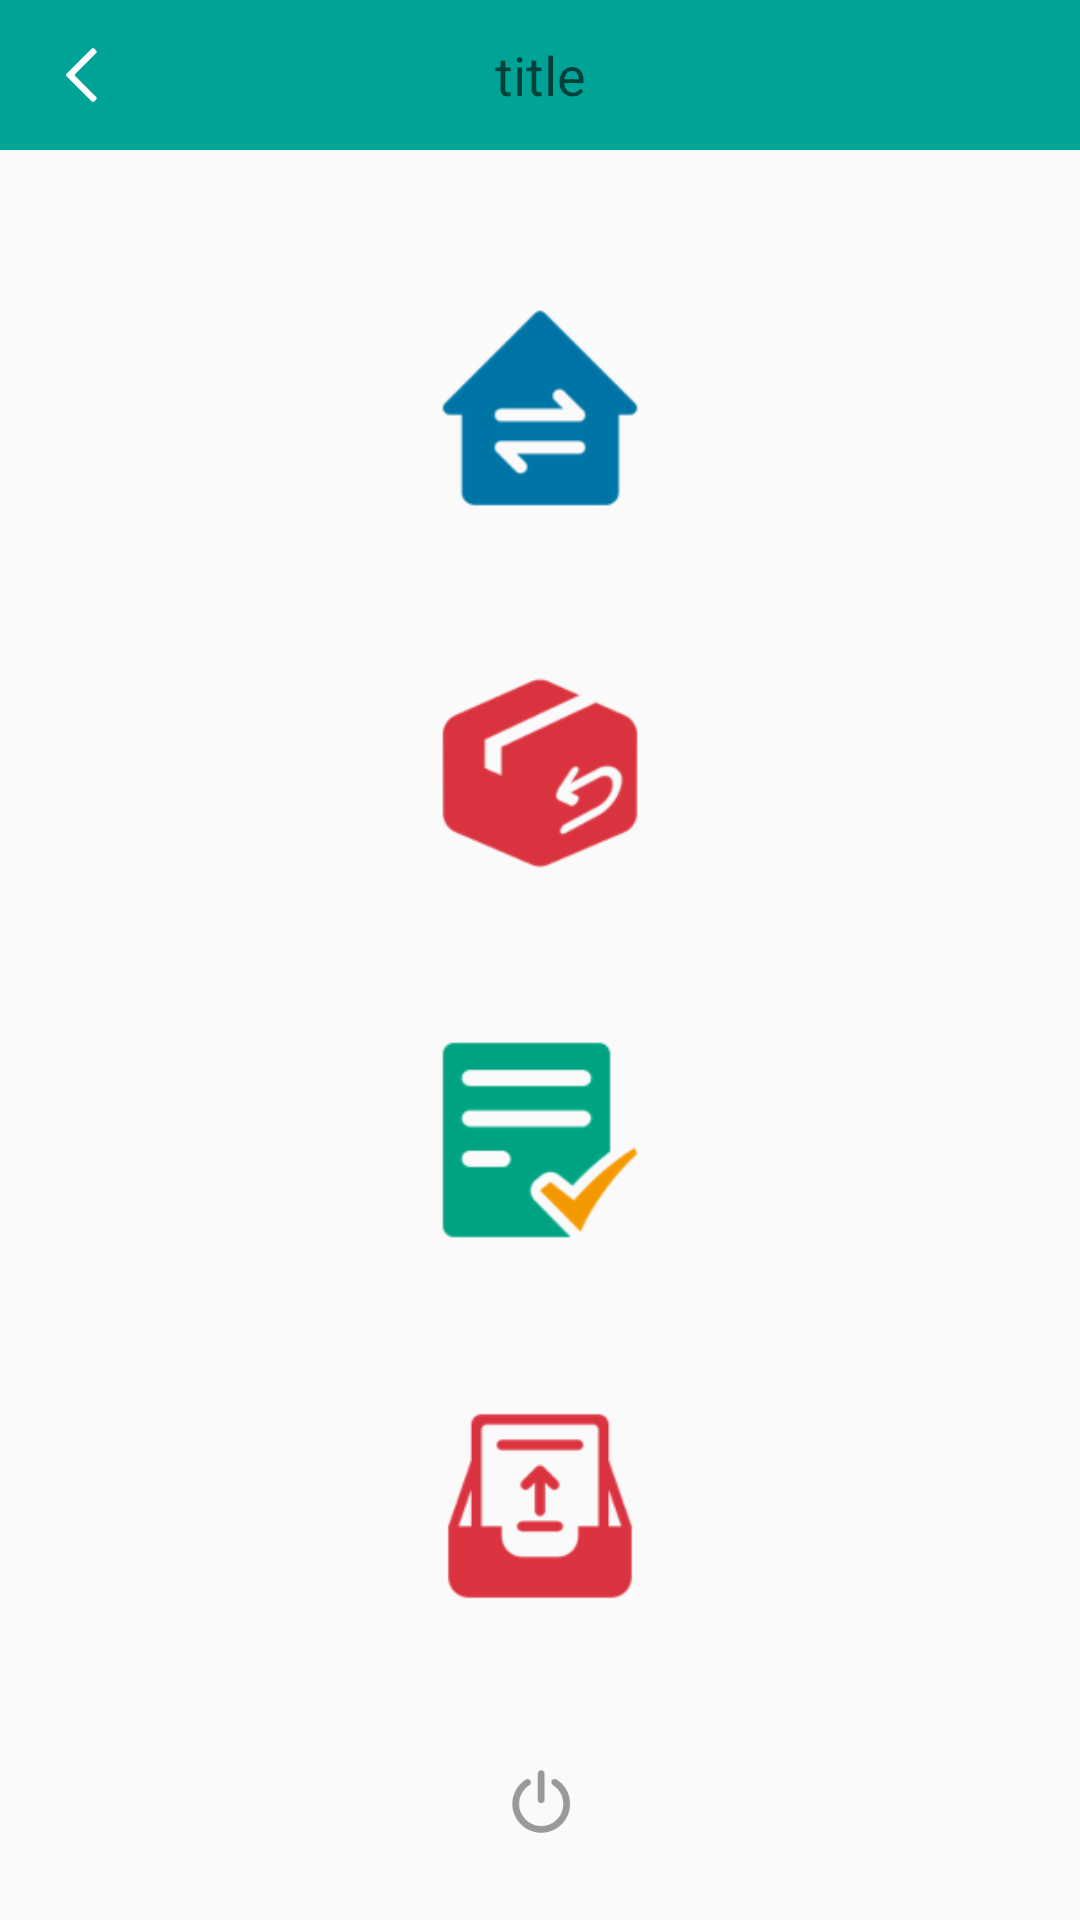

Icon click points for this 1080 × 1920 phone screenshot, format [x,y]:
home sign out: [541,1801]
